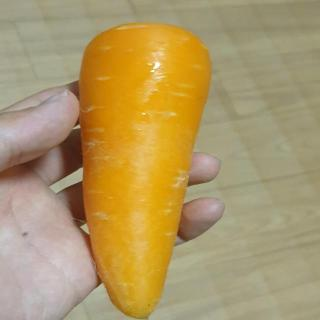carrot: (73, 18, 219, 320)
